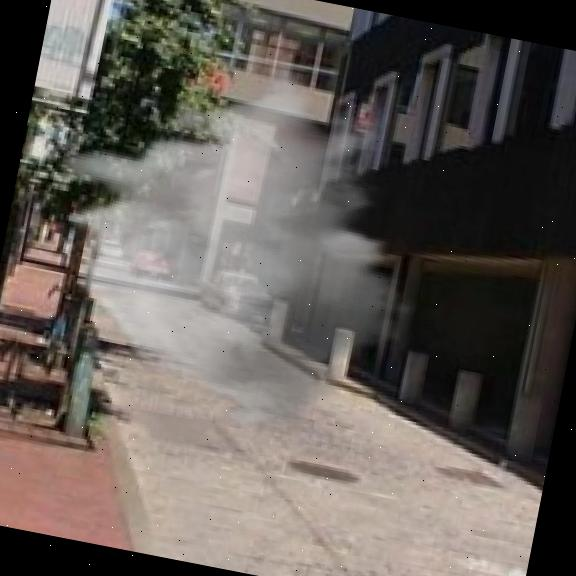smoke: (9, 24, 458, 460)
